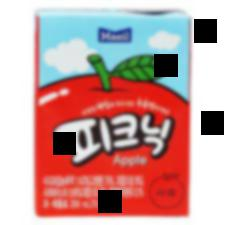picnic_apple: (31, 8, 194, 220)
